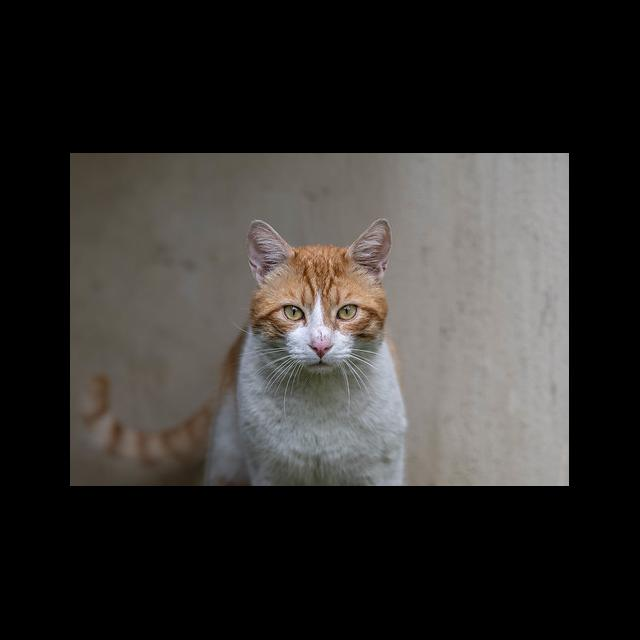animals: (83, 220, 407, 487)
